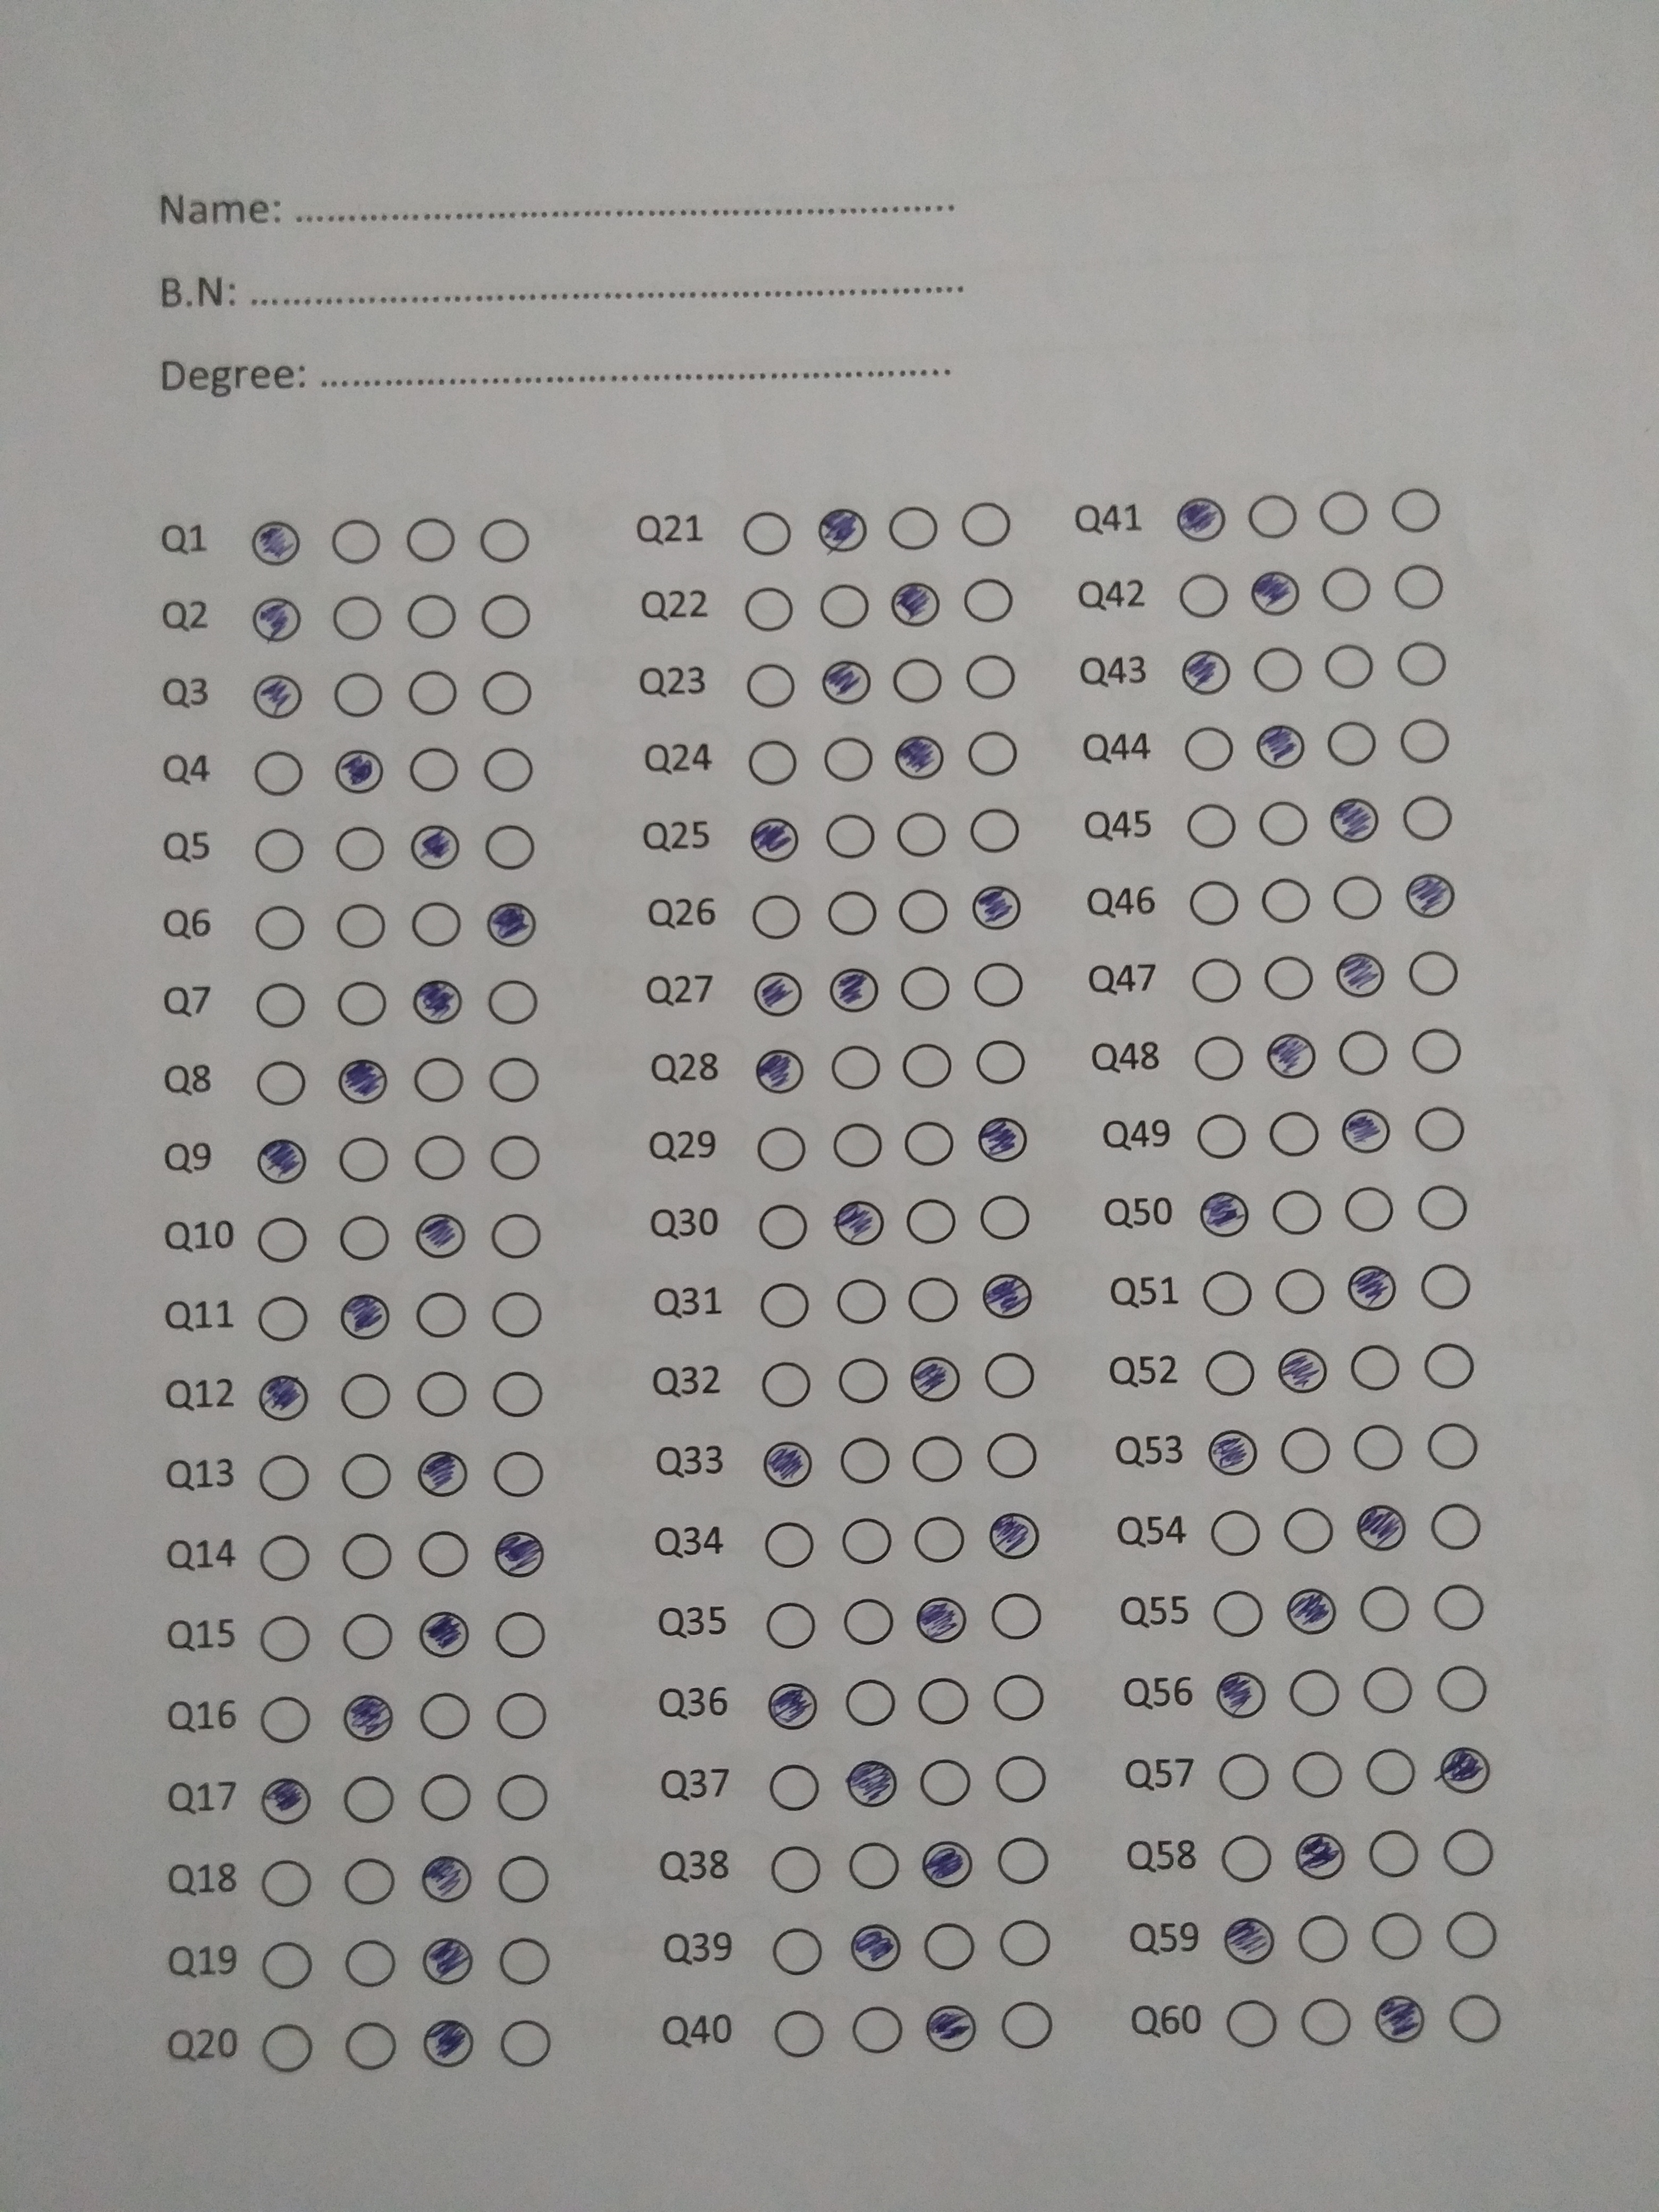not-c: (326, 589, 389, 644), (336, 1773, 399, 1829), (495, 1848, 552, 1907), (416, 1768, 477, 1824), (493, 1768, 552, 1824), (258, 1937, 317, 1993), (1199, 1264, 1258, 1320), (399, 512, 460, 566), (1215, 1749, 1272, 1804), (1443, 1905, 1502, 1959), (497, 1932, 552, 1987), (1370, 1907, 1425, 1963), (1439, 1824, 1495, 1879), (497, 2015, 554, 2069), (985, 1430, 1042, 1484), (838, 1595, 896, 1649), (1222, 1996, 1279, 2050), (1288, 1747, 1345, 1801), (338, 1449, 397, 1501), (491, 1608, 551, 1660), (899, 1040, 958, 1092), (1420, 1339, 1480, 1392), (1188, 1031, 1248, 1083), (1385, 484, 1445, 536), (882, 503, 943, 554), (910, 1432, 965, 1486), (1298, 1994, 1354, 2048), (1446, 1989, 1500, 2045), (477, 590, 535, 643), (258, 2022, 315, 2074), (988, 1588, 1046, 1641), (915, 1756, 972, 1808), (999, 1998, 1056, 2050), (849, 2003, 906, 2055), (1293, 1912, 1351, 1965), (1347, 1341, 1405, 1393), (1272, 1264, 1330, 1317), (1417, 1259, 1474, 1312), (1413, 1181, 1471, 1233), (1265, 1108, 1323, 1160), (1408, 1026, 1466, 1078), (338, 1611, 397, 1662), (976, 1191, 1035, 1242), (333, 820, 387, 874), (403, 589, 458, 641), (335, 1132, 390, 1184), (336, 1211, 392, 1263), (256, 1451, 312, 1503), (258, 1693, 314, 1745), (342, 1937, 397, 1989), (343, 2019, 399, 2071), (992, 1670, 1047, 1723), (915, 1674, 971, 1726), (997, 1918, 1053, 1970), (1366, 1827, 1422, 1879), (1356, 1581, 1412, 1634), (483, 977, 540, 1028), (415, 1689, 472, 1740), (889, 655, 946, 705), (829, 1120, 887, 1170), (903, 1195, 960, 1245), (324, 516, 383, 564), (477, 514, 532, 566), (410, 899, 464, 951), (486, 1054, 540, 1106), (258, 1613, 312, 1665), (756, 1200, 810, 1252), (843, 1676, 897, 1728), (770, 1925, 824, 1977), (1361, 1663, 1415, 1716), (1211, 1588, 1265, 1641), (1425, 1420, 1480, 1472), (1342, 1183, 1396, 1235), (1401, 791, 1455, 843), (1392, 561, 1445, 615), (481, 822, 537, 873), (410, 1054, 465, 1104), (251, 1057, 307, 1108), (254, 1292, 310, 1343), (413, 1291, 469, 1341), (490, 1449, 545, 1500), (342, 1855, 397, 1905), (755, 1123, 810, 1174), (904, 1275, 960, 1325), (763, 1599, 819, 1649), (1204, 1346, 1260, 1397), (1324, 718, 1380, 768), (333, 979, 390, 1028), (486, 1134, 544, 1183), (258, 1534, 315, 1583), (491, 1691, 549, 1740), (894, 887, 951, 935), (983, 1352, 1040, 1400), (1412, 1104, 1469, 1153), (491, 1289, 544, 1341), (416, 1527, 469, 1580), (260, 1855, 312, 1907), (1396, 637, 1448, 690), (251, 826, 305, 876), (254, 981, 308, 1031), (254, 1214, 308, 1264), (960, 500, 1014, 550), (965, 728, 1019, 779), (746, 737, 800, 787), (836, 1355, 890, 1406), (838, 1433, 892, 1484), (911, 1514, 965, 1564), (993, 1754, 1047, 1804), (922, 1921, 976, 1972), (1218, 1832, 1272, 1883), (1364, 1747, 1419, 1797), (1434, 1663, 1488, 1714), (1432, 1581, 1486, 1632), (1429, 1501, 1483, 1552), (1208, 1507, 1262, 1557), (1335, 1028, 1389, 1078), (1262, 951, 1316, 1001), (1251, 643, 1305, 693), (1323, 641, 1377, 691), (1178, 571, 1232, 622), (338, 1371, 394, 1420), (962, 575, 1018, 624), (742, 660, 798, 709), (821, 810, 877, 859), (995, 1836, 1051, 1885), (1351, 1421, 1406, 1470), (491, 1369, 544, 1420), (415, 1369, 467, 1420), (342, 1529, 394, 1580), (829, 1040, 882, 1090), (760, 1359, 812, 1409), (1283, 1505, 1335, 1555), (1279, 1425, 1331, 1475), (1398, 716, 1450, 766), (1183, 723, 1236, 773), (821, 735, 875, 784), (758, 1282, 812, 1331), (833, 1277, 887, 1325), (767, 1763, 821, 1811), (847, 1841, 901, 1890), (772, 2008, 826, 2057), (1288, 1669, 1342, 1717), (1406, 948, 1460, 996), (1185, 801, 1239, 850), (896, 810, 946, 860), (1192, 954, 1243, 1005), (1321, 564, 1371, 615), (406, 667, 458, 716), (253, 749, 305, 798), (253, 904, 305, 953), (490, 1212, 542, 1261), (741, 509, 793, 557), (742, 583, 795, 632), (826, 888, 878, 937), (749, 892, 802, 941), (972, 960, 1025, 1008), (903, 1116, 955, 1165), (840, 1515, 892, 1564), (763, 1521, 816, 1569), (769, 1844, 821, 1893), (1195, 1111, 1248, 1160), (411, 1134, 465, 1181), (817, 582, 871, 629), (1331, 874, 1385, 921), (1316, 489, 1370, 536), (1188, 878, 1239, 927), (1258, 799, 1309, 848), (481, 671, 533, 718), (899, 965, 951, 1012), (974, 1038, 1026, 1085), (1270, 1188, 1323, 1235), (1260, 876, 1312, 923), (1246, 493, 1298, 540), (964, 653, 1018, 698), (408, 747, 460, 792), (333, 671, 382, 718), (484, 747, 533, 794), (336, 902, 387, 948), (969, 806, 1019, 852)
taken-c: (1220, 1912, 1277, 1966), (420, 1933, 476, 1987), (1371, 1991, 1425, 2047), (918, 1836, 976, 1888), (410, 1211, 469, 1261), (342, 1691, 396, 1745), (247, 517, 303, 570), (913, 1594, 969, 1646), (1197, 1188, 1253, 1240), (1283, 1585, 1338, 1637), (410, 975, 464, 1028), (491, 1527, 545, 1580), (418, 1606, 471, 1660), (422, 2017, 476, 2069), (924, 2001, 978, 2054), (892, 732, 946, 784), (1206, 1425, 1260, 1477), (1354, 1503, 1408, 1555), (1438, 1743, 1492, 1796), (1295, 1831, 1349, 1883), (249, 592, 305, 643), (254, 1136, 310, 1186), (748, 813, 803, 864), (1211, 1669, 1269, 1717), (260, 1775, 312, 1827), (762, 1437, 814, 1489), (1265, 1029, 1317, 1082), (338, 1291, 392, 1341), (849, 1921, 903, 1972), (845, 1759, 899, 1810), (765, 1679, 819, 1730), (1253, 721, 1307, 772), (1330, 794, 1384, 845), (254, 1374, 310, 1423), (251, 671, 303, 721), (333, 745, 385, 796), (422, 1853, 474, 1904), (910, 1353, 962, 1404), (1345, 1263, 1398, 1313), (408, 822, 462, 871), (415, 1449, 469, 1498), (833, 1198, 887, 1247), (753, 1047, 807, 1096), (1180, 648, 1234, 697), (1405, 871, 1459, 920), (333, 1057, 389, 1104), (753, 968, 803, 1019), (484, 899, 537, 948), (988, 1512, 1040, 1561), (976, 1115, 1028, 1163), (889, 580, 941, 629), (1249, 568, 1302, 617), (1333, 951, 1385, 1000), (1277, 1346, 1330, 1395), (979, 1271, 1033, 1318), (814, 507, 868, 554), (821, 658, 871, 707), (971, 885, 1023, 932), (1175, 496, 1227, 543), (1340, 1106, 1392, 1153), (829, 967, 880, 1012)
